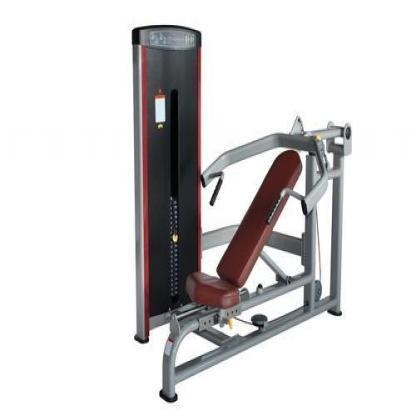shoulder press machine: (130, 22, 353, 402)
